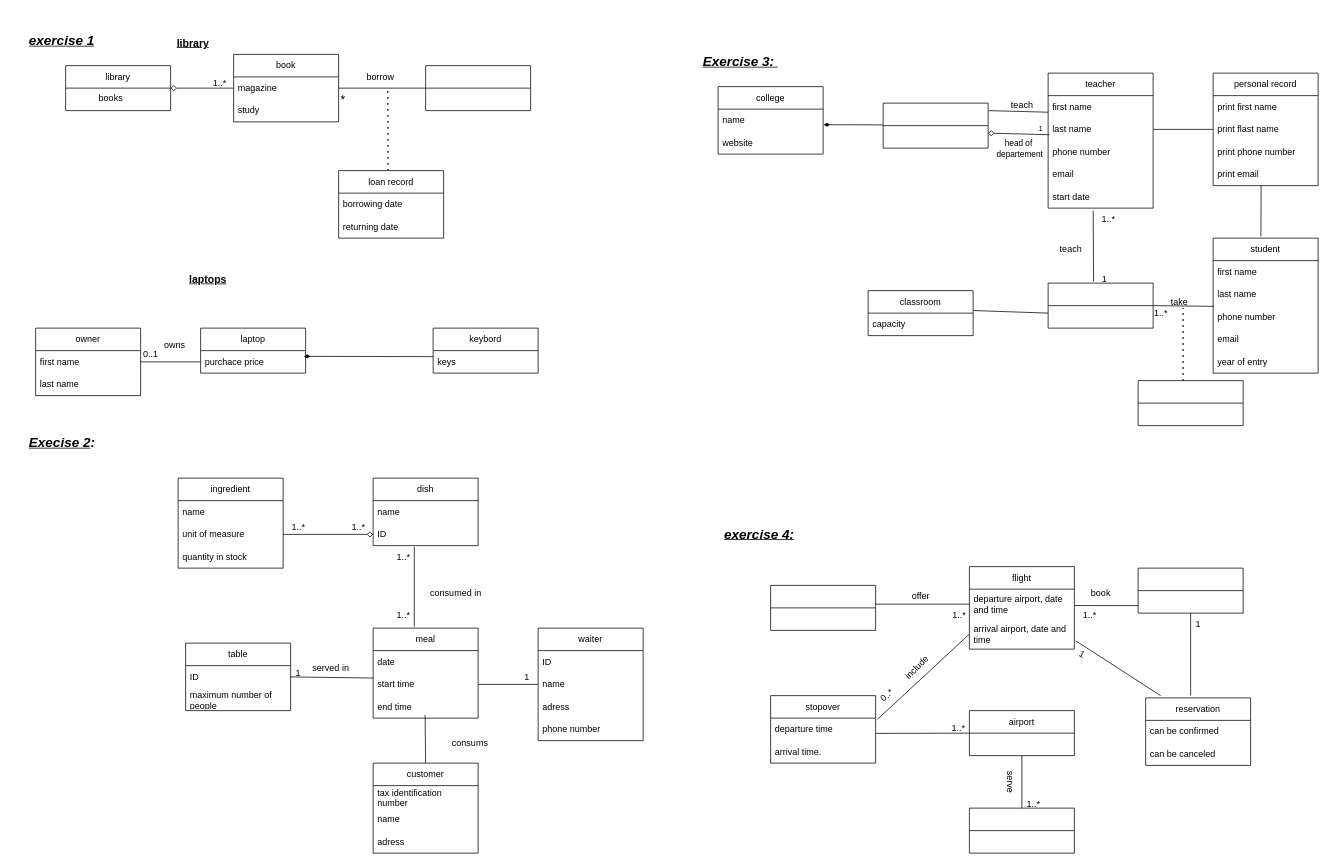
This 1331x866 diagram has some shape labels left out. The centre of each missing label's shape, as x and y in pixels:
Airlines: the point at 823,607
city: the point at 1021,830
client: the point at 1190,590
departement: the point at 935,125
grade: the point at 1190,403
member: the point at 478,88
subject: the point at 1100,305
